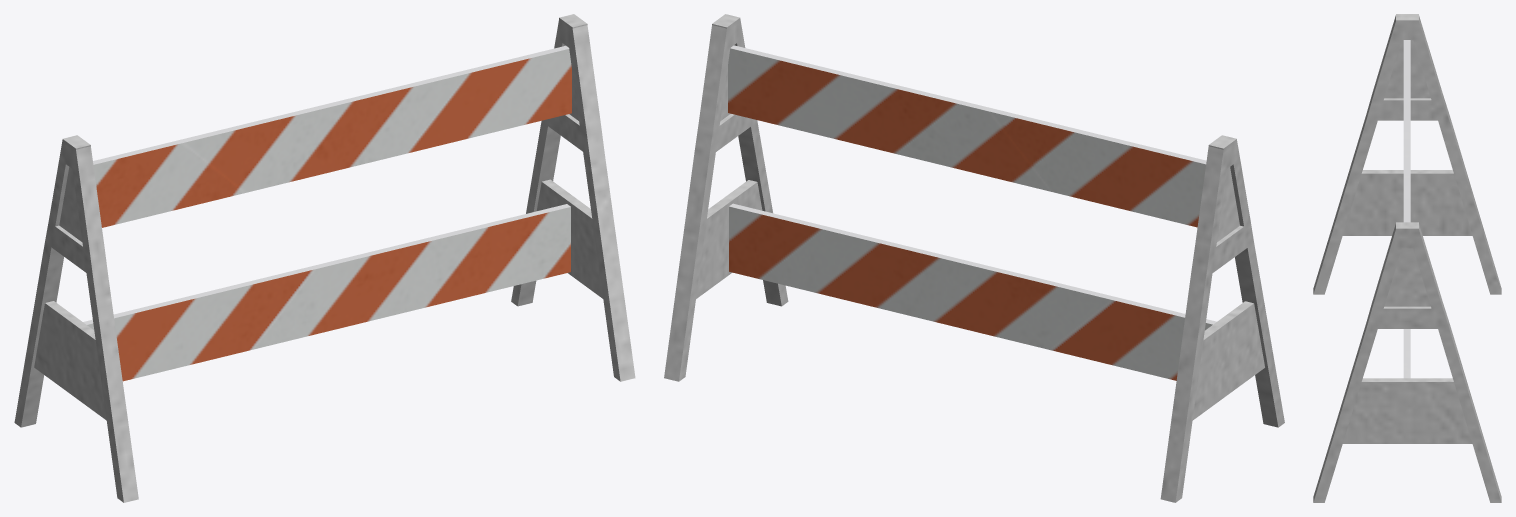
File: A_Barricade2L.fbx
3 views of the same model, side by side, from view 1: azimuth 30°, elevation 25°; view 2: azimuth 150°, elevation 25°; view 3: azimuth 270°, elevation 25° (orthographic). The views are drawn at different scales.
Parts seen in each view (by area): view 1: A_Barricade2L; view 2: A_Barricade2L; view 3: A_Barricade2L.
Part boxes in pixels (x1,y1,x2,y2): A_Barricade2L: (14, 14, 635, 502); A_Barricade2L: (664, 14, 1284, 502); A_Barricade2L: (1313, 14, 1501, 502).
Size of the model in its own units: 189 by 113 by 70.01.
1 material, 1 textured.
